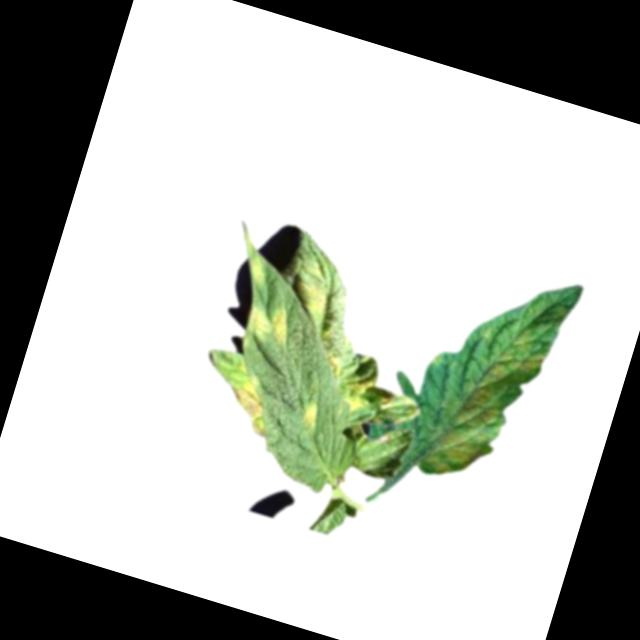Leaf_Mold: (420, 304, 557, 499), (311, 347, 381, 413), (217, 368, 281, 437), (291, 250, 344, 314), (242, 292, 299, 348), (298, 397, 322, 431)
